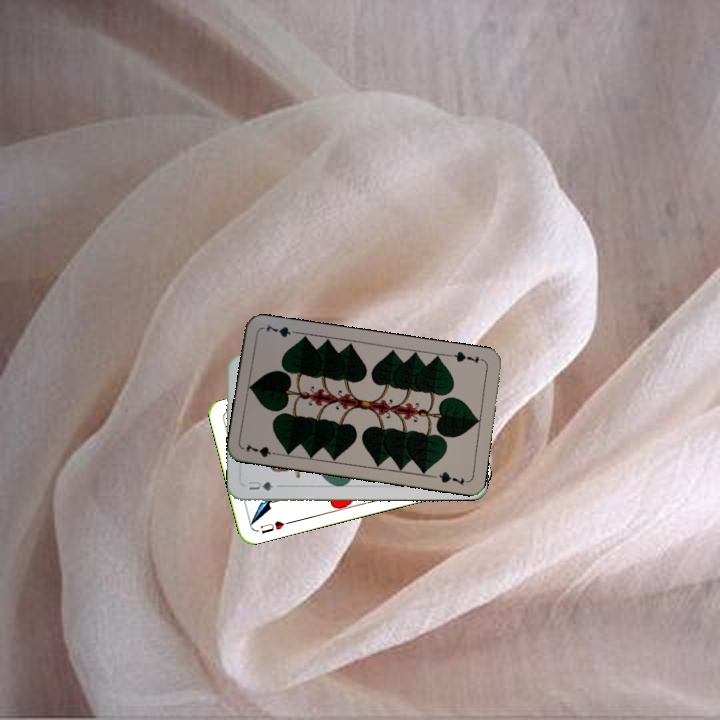G7: (242, 440, 282, 460), (446, 347, 486, 366)
GU: (243, 477, 276, 493)
HU: (257, 517, 293, 536)
